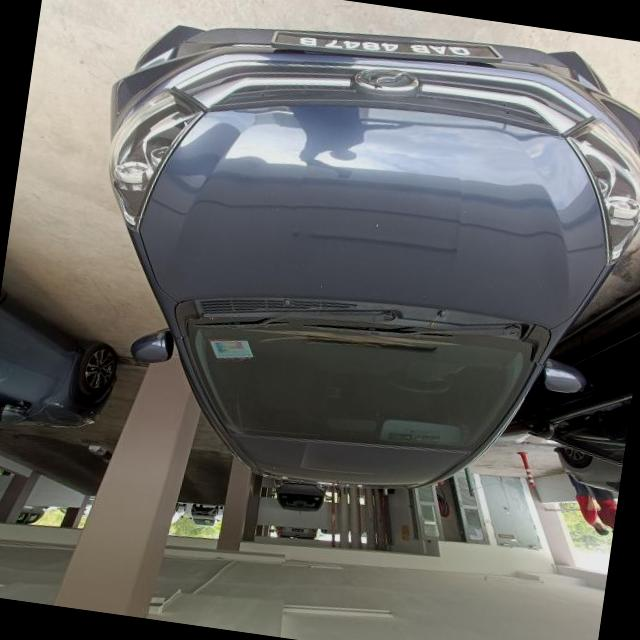PeroduaAxia: (58, 0, 640, 535)
